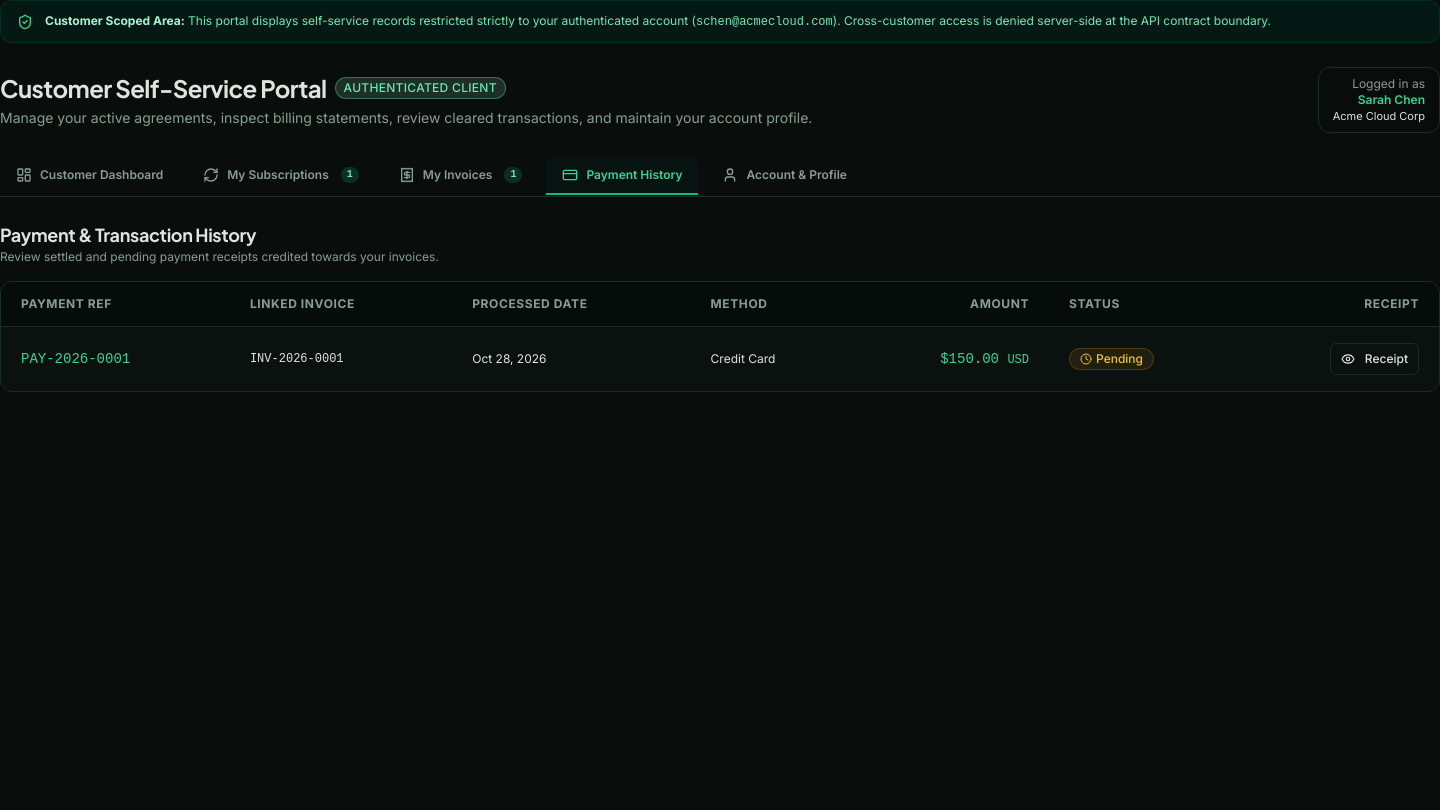
Test: CustomerPortalPage › navigates to Payment History tab and opens payment receipt modal
This screenshot has width=1440, height=810.
Expected: the heading "Payment & Transaction History" is shown, [0,223,256,246]
Expected: the text "PAY-2026-0001" is shown, [1,326,230,391]
Click the button with aria-label "View PAY-2026-0001" at (1374, 359), box [1330,343,1419,375]
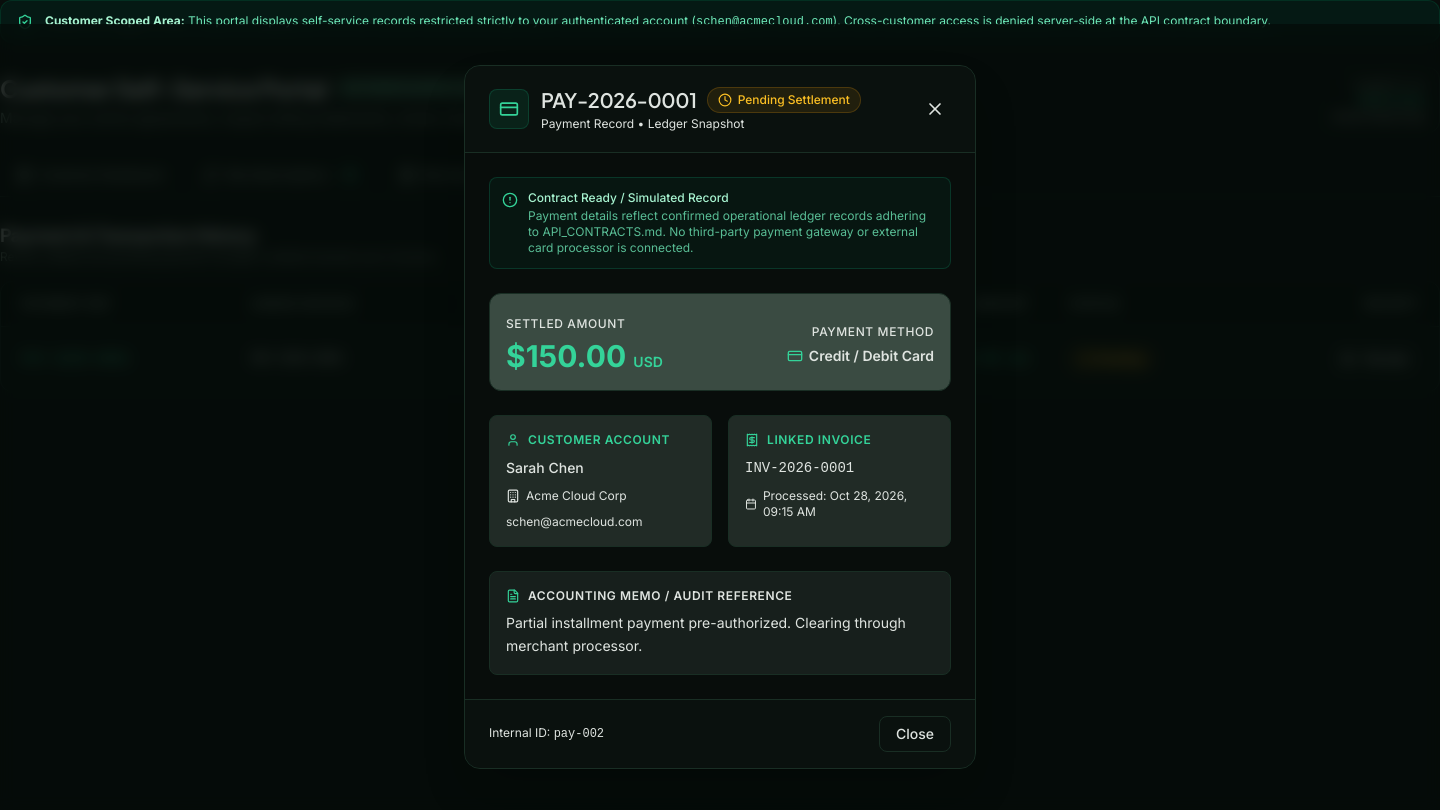
Result: the text "Payment Record • Ledger Snapshot" is shown at [541,116,744,131]
